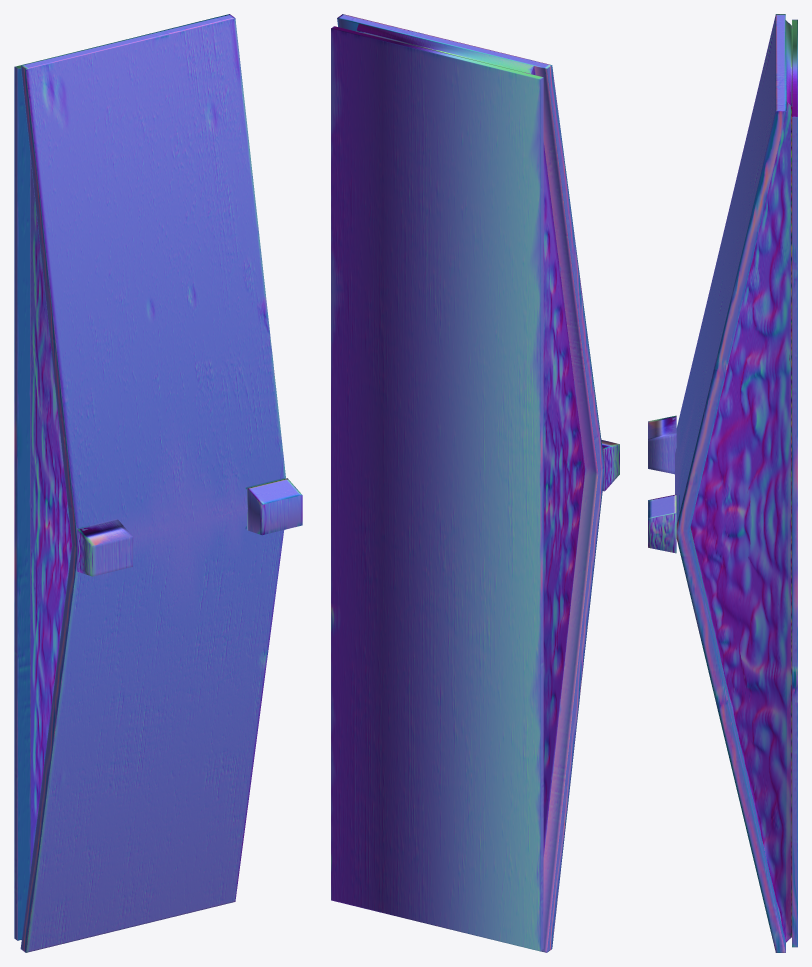
File: Triangle_top_part_lo_44.fbx
The picture shows the model from 3 angles, left to right: view 1: azimuth 30°, elevation 25°; view 2: azimuth 150°, elevation 25°; view 3: azimuth 270°, elevation 25°; orthographic projection. The views are drawn at different scales.
Parts seen in each view (by area): view 1: Triangle_top_part_lo_44; view 2: Triangle_top_part_lo_44; view 3: Triangle_top_part_lo_44.
Boxes of the visible parts, bbox=[...] form: Triangle_top_part_lo_44: bbox=[14, 14, 302, 952]; Triangle_top_part_lo_44: bbox=[331, 14, 619, 952]; Triangle_top_part_lo_44: bbox=[648, 14, 797, 952].
Bounding box in the file's own units: 98.89 × 398 × 64.11.
